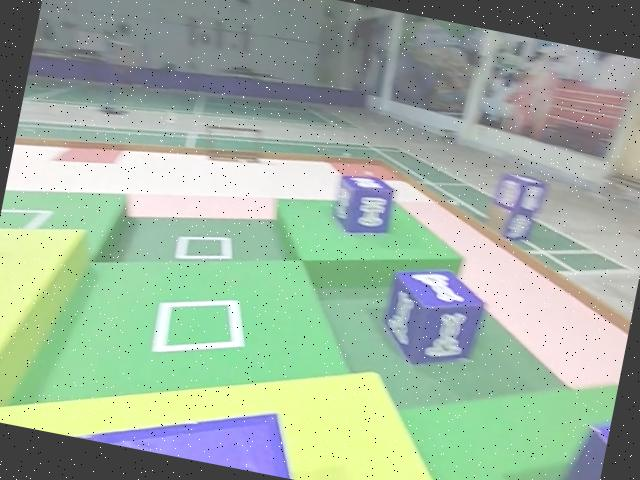R2 Real Blue: (374, 259, 491, 377), (543, 389, 615, 480), (325, 170, 397, 243)
